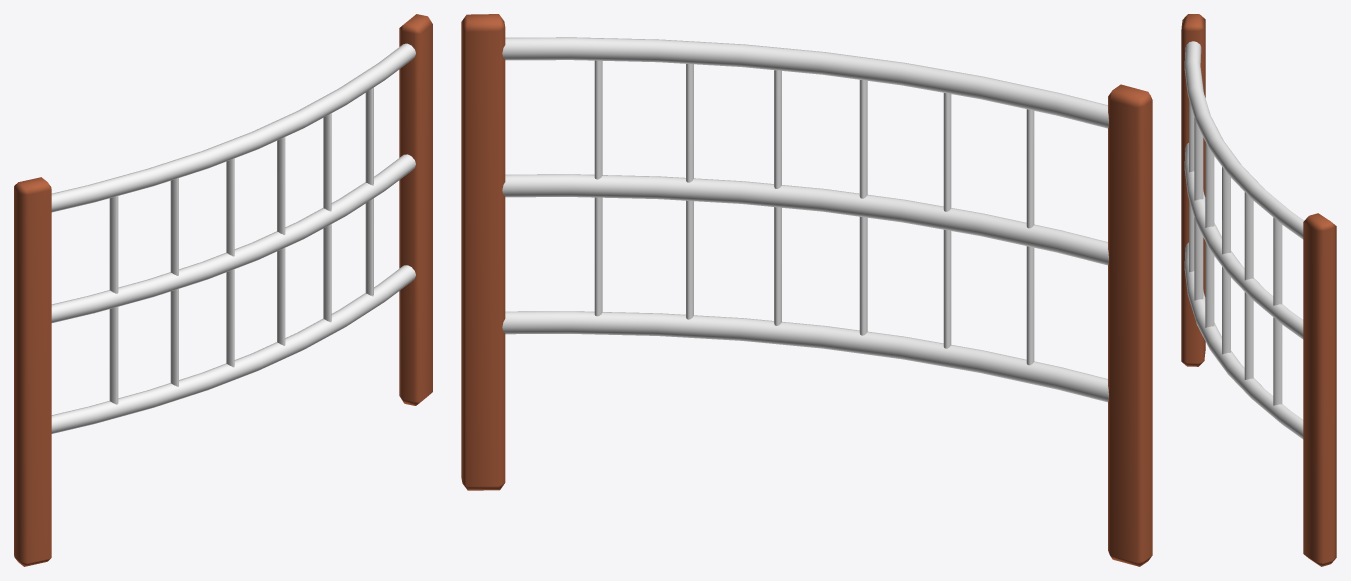
3 views of the same model, side by side, from view 1: azimuth 30°, elevation 25°; view 2: azimuth 150°, elevation 25°; view 3: azimuth 270°, elevation 25° (orthographic). The views are drawn at different scales.
Visible parts, largest first — view 1: fileler4; view 2: fileler4; view 3: fileler4.
Boxes of the visible parts, bbox=[...] form: fileler4: bbox=[14, 14, 432, 566]; fileler4: bbox=[461, 14, 1152, 566]; fileler4: bbox=[1181, 14, 1336, 566].
Bounding box in the file's own units: 165 × 124 × 50.78.
